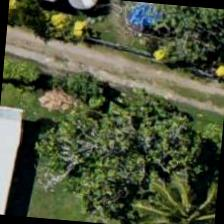Kelapa_Sawit: (134, 164, 220, 223)
